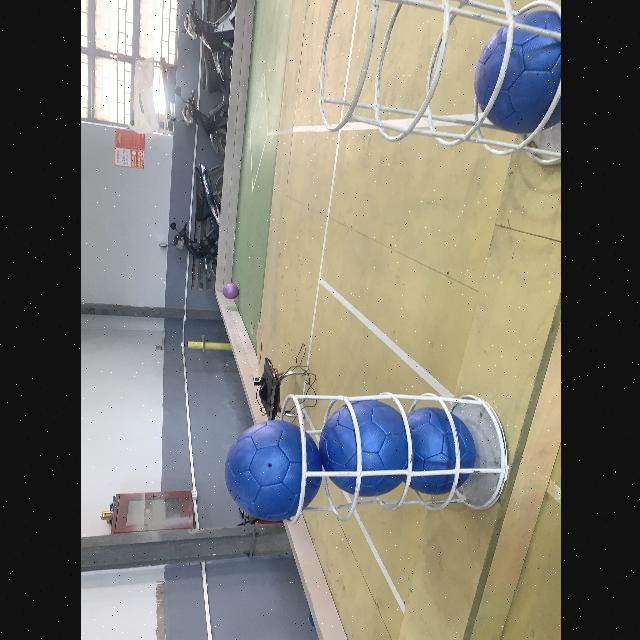B: (476, 7, 560, 135), (223, 422, 321, 522), (320, 402, 406, 501), (405, 409, 479, 495)
